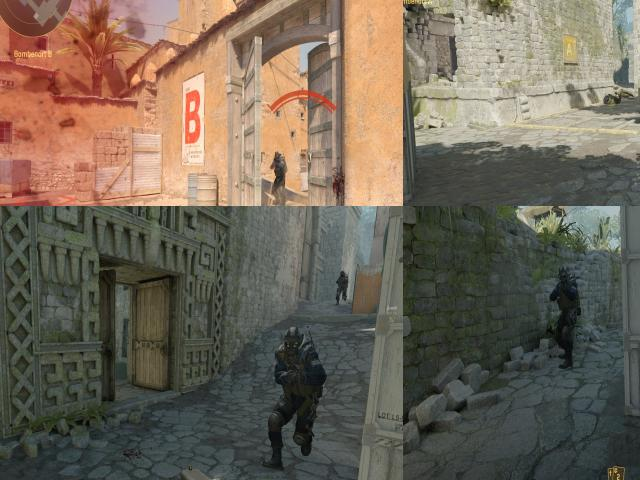CT: (270, 324, 325, 472), (333, 263, 353, 305), (273, 151, 285, 206)
CT-Head: (544, 266, 582, 374), (280, 323, 304, 358), (556, 264, 572, 286), (337, 267, 348, 278), (274, 153, 280, 162)
Dead: (598, 94, 622, 111), (615, 87, 635, 102)
